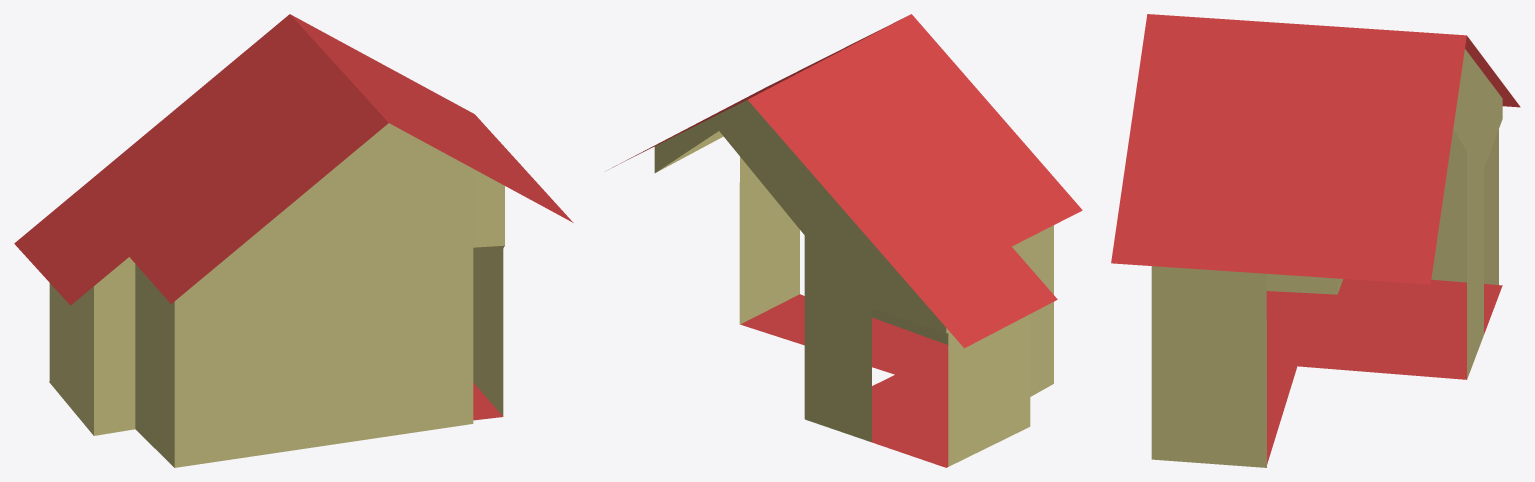
3 views of the same model, side by side, from view 1: azimuth 30°, elevation 25°; view 2: azimuth 150°, elevation 25°; view 3: azimuth 270°, elevation 25° (orthographic). The views are drawn at different scales.
Bounding box in the file's own units: 24.31 × 16.62 × 16.96.
